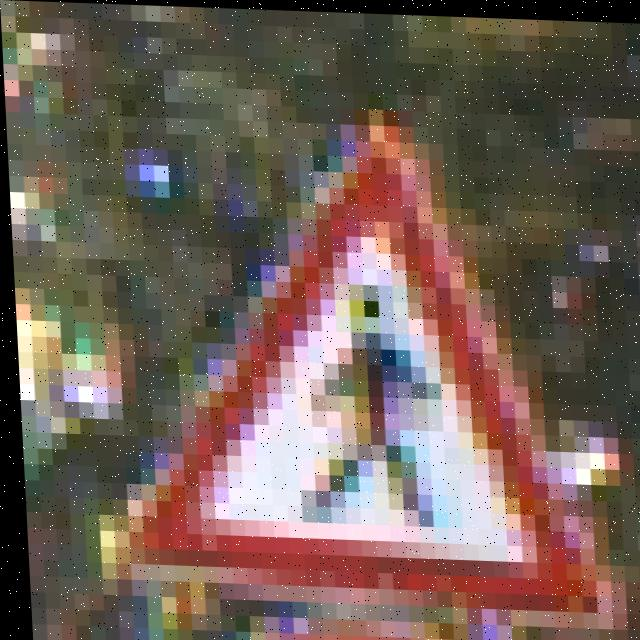crosswalk: (131, 114, 588, 640)
